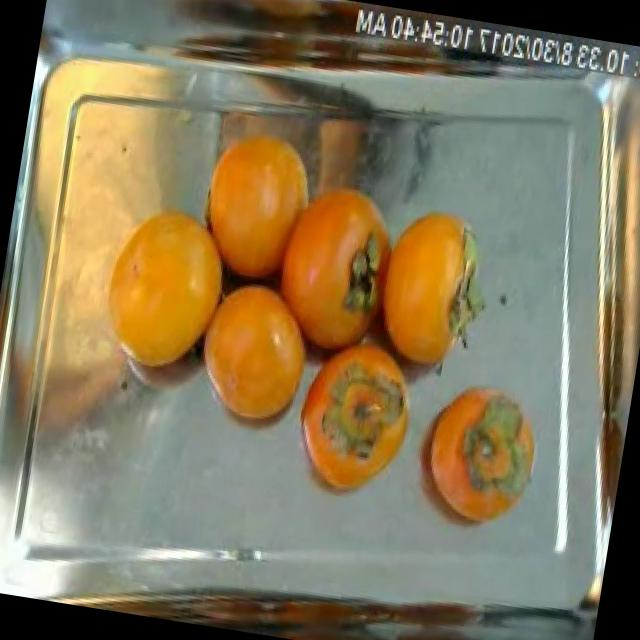Fruit: (392, 356, 558, 552), (279, 316, 435, 522), (348, 185, 498, 394), (175, 253, 328, 448)
